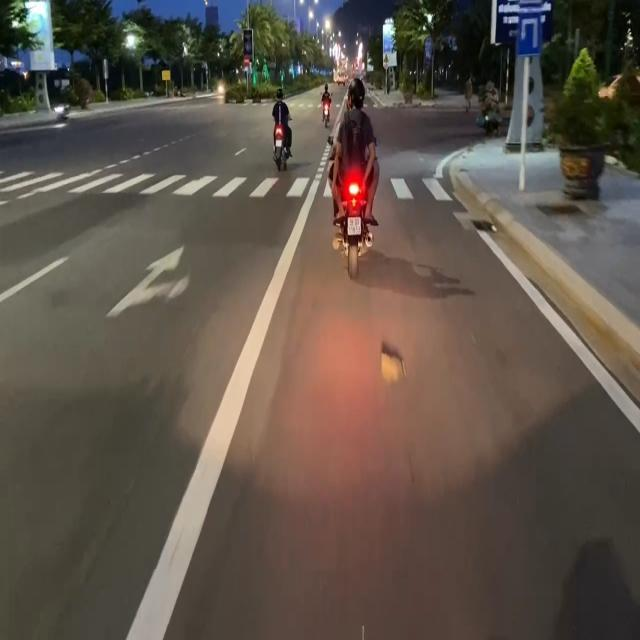walk-crossing: (1, 169, 330, 204), (378, 172, 453, 204)
